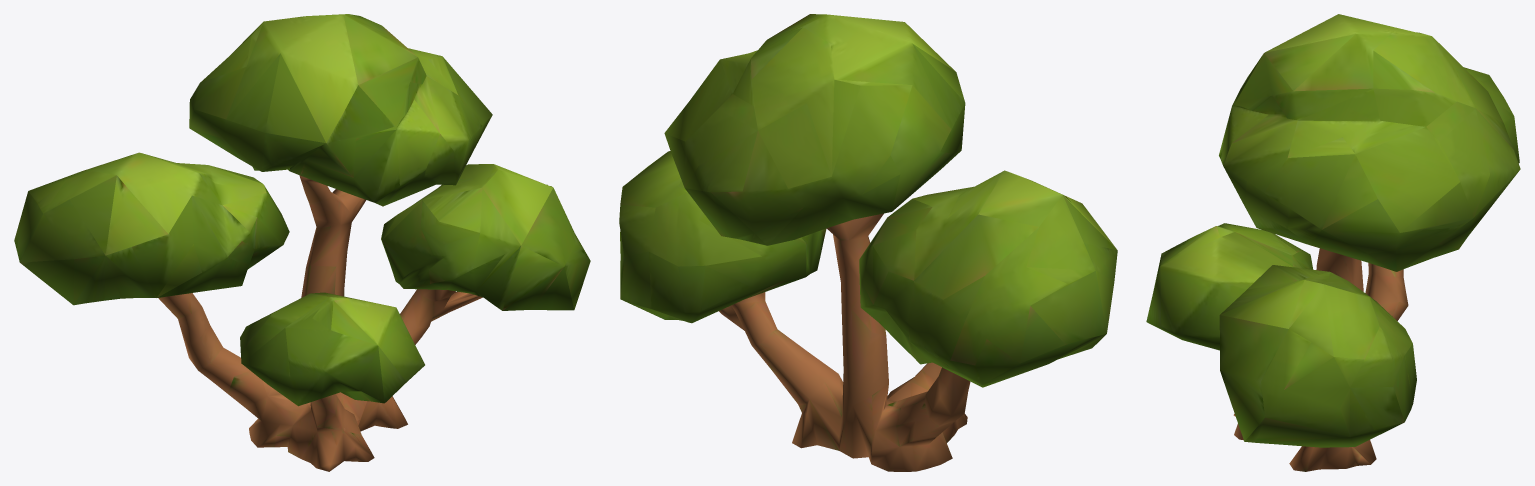
File: tree_compact.glb
The picture shows the model from 3 angles, left to right: view 1: azimuth 30°, elevation 25°; view 2: azimuth 150°, elevation 25°; view 3: azimuth 270°, elevation 25°; orthographic projection. The views are drawn at different scales.
Parts seen in each view (by area): view 1: tree_compact; view 2: tree_compact; view 3: tree_compact.
Part boxes in pixels (<box>): tree_compact: <box>14,14,590,471</box>; tree_compact: <box>619,14,1117,471</box>; tree_compact: <box>1146,14,1520,471</box>.
Size of the model in its own units: 6 by 4.6 by 3.73.
Materials: 1 (1 with a texture image).
